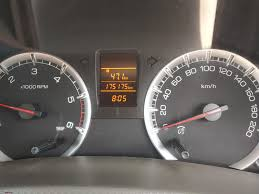Digital_Meter: (94, 80, 140, 91)
